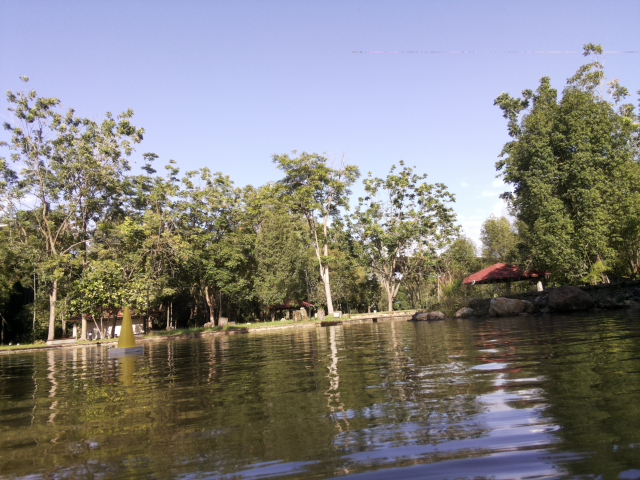checkpoint: (109, 307, 145, 357)
